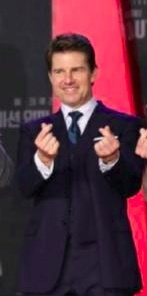oneheart: (87, 123, 123, 159), (29, 121, 63, 155)
